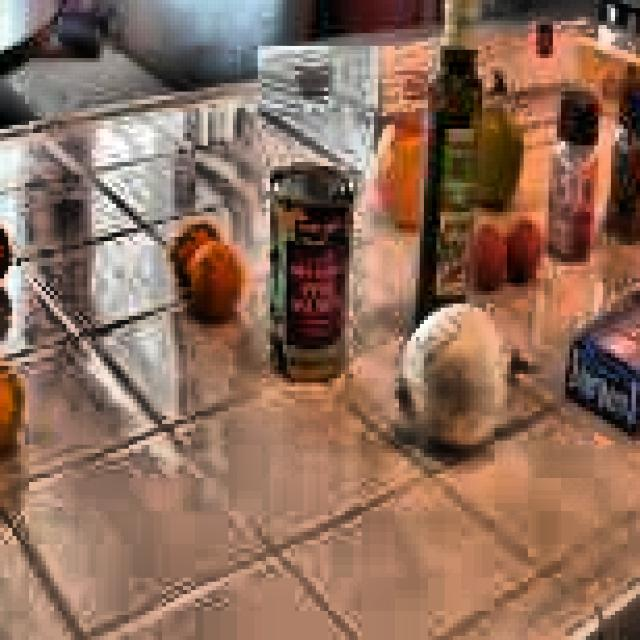egg: (503, 216, 544, 283), (466, 228, 509, 291)
onion: (391, 300, 534, 466)
